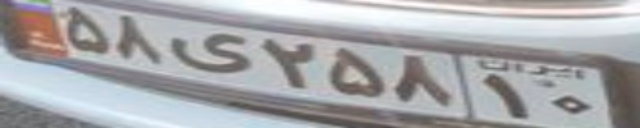0: (548, 94, 597, 115)
1: (479, 73, 529, 118)
2: (258, 40, 317, 88)
5: (323, 48, 382, 97), (62, 4, 108, 54)
8: (390, 55, 451, 106), (113, 14, 158, 63)
ye: (169, 32, 252, 74)
